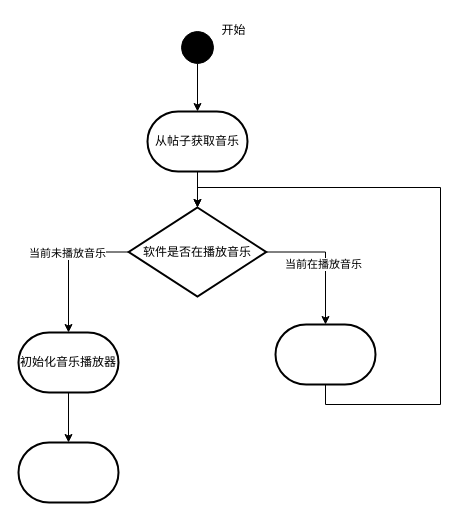
The diagram is 466 pixels wide and 520 high, and some of its shapes have lost their labels. The centre of each missing label's shape, as x and y in pixels:
播放音乐: the point at 68,472
暂停播放音乐: the point at 325,354
